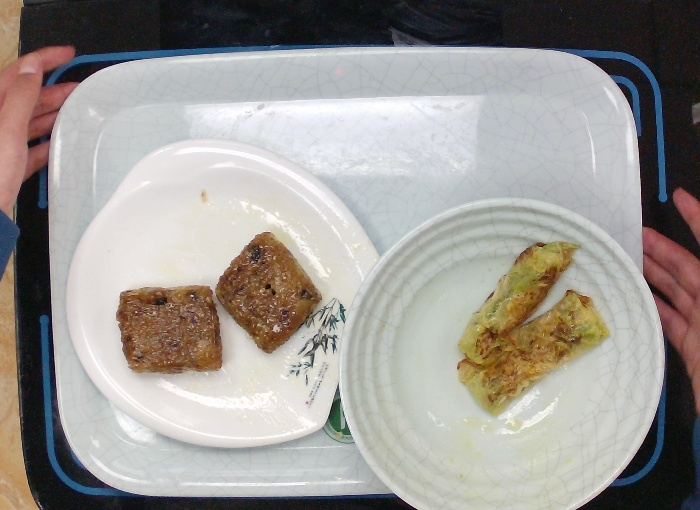JYsf-Da_Tang_Wan: (336, 197, 668, 510)
JYsf-Mian_Pan: (63, 137, 385, 452)
